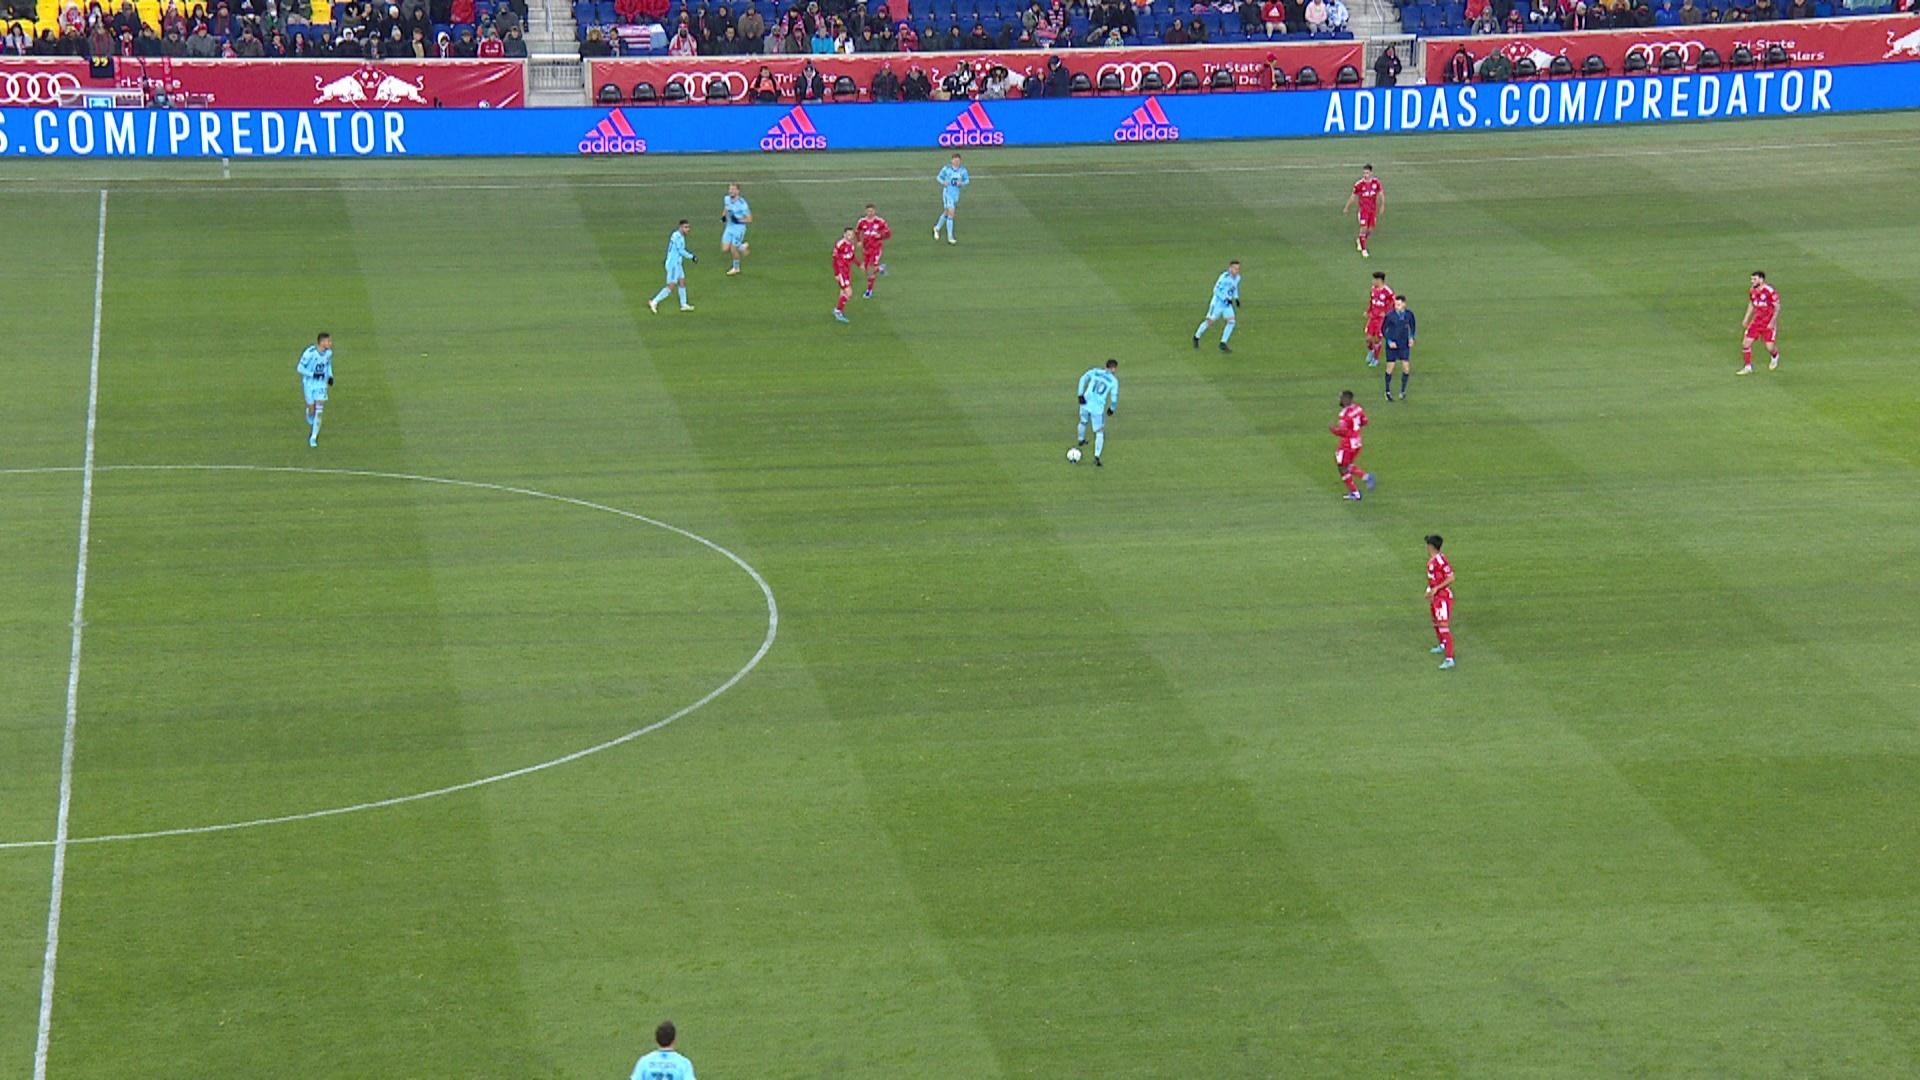football: (1067, 447, 1083, 463)
